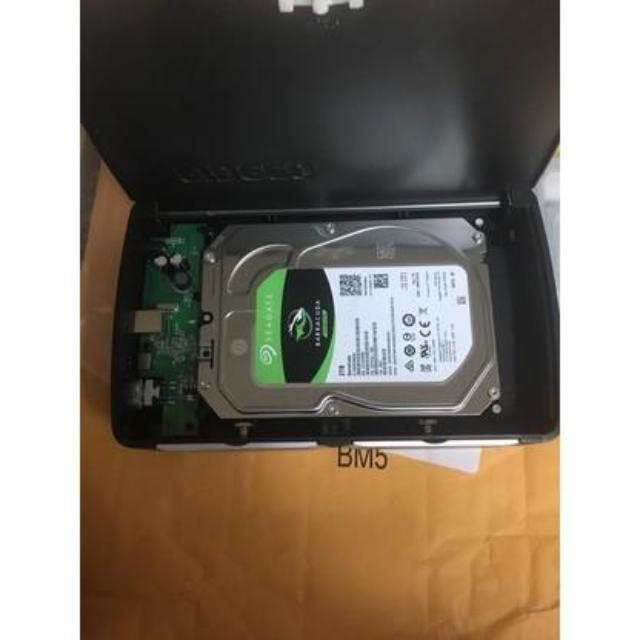DISK: (201, 220, 499, 415)
